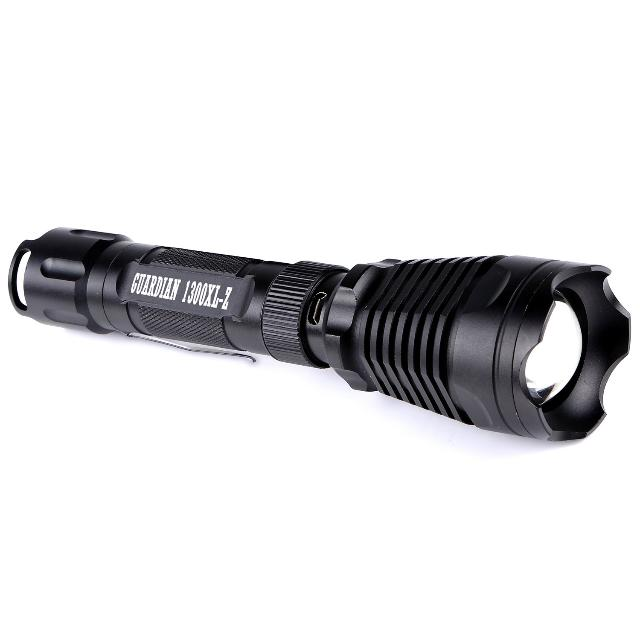Flashlight: (1, 218, 640, 450)
